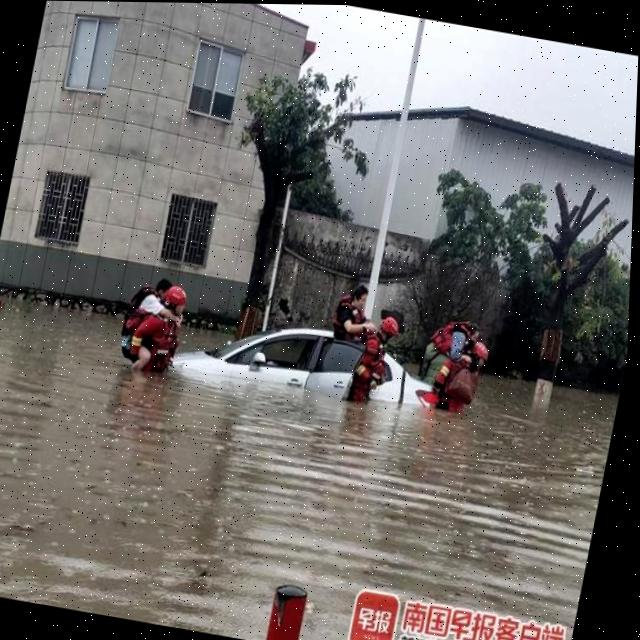civilian: (112, 268, 169, 374), (414, 308, 484, 390), (330, 276, 378, 343)
rescuer: (344, 303, 410, 422), (431, 338, 497, 424), (141, 276, 195, 380)
